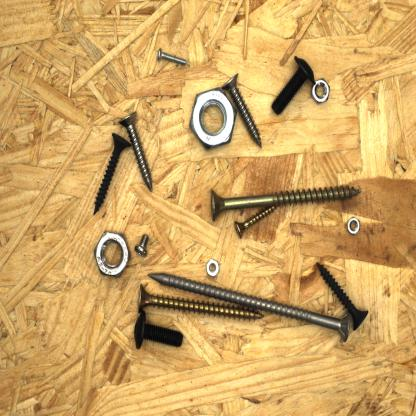screw: (144, 271, 354, 344), (206, 183, 364, 225), (136, 280, 270, 323), (314, 257, 372, 335), (92, 127, 134, 219), (220, 68, 264, 152), (116, 106, 156, 197), (269, 53, 318, 117), (130, 308, 185, 352), (232, 202, 279, 240), (153, 45, 192, 69), (133, 231, 152, 258)
